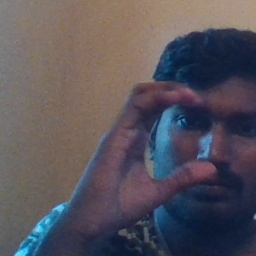C: (102, 74, 222, 214)
